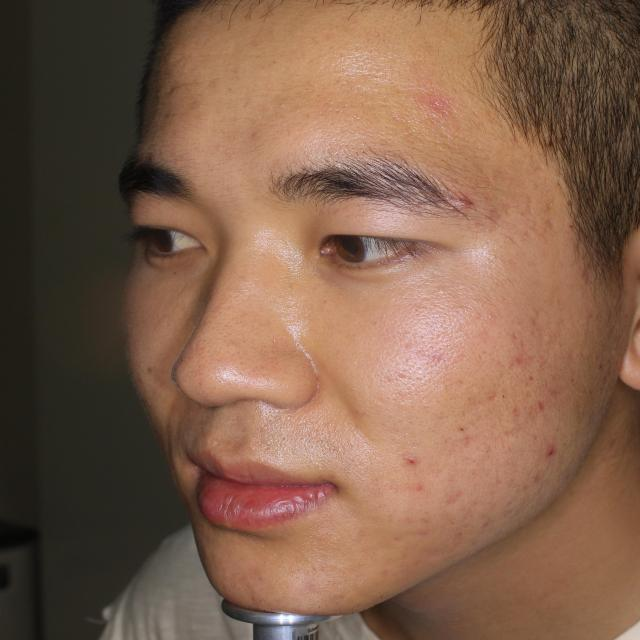pustule: (503, 334, 543, 367), (450, 192, 484, 226), (398, 444, 438, 472), (420, 89, 456, 117), (541, 435, 568, 464), (538, 384, 561, 411)
